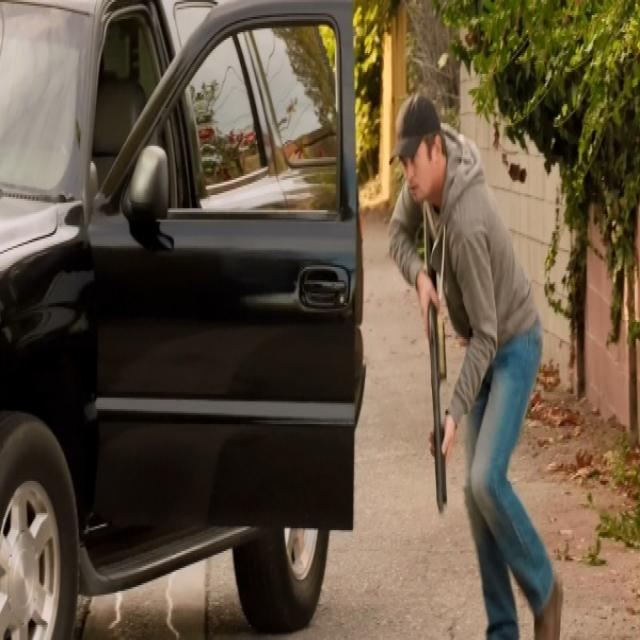rifle: (427, 271, 450, 526)
